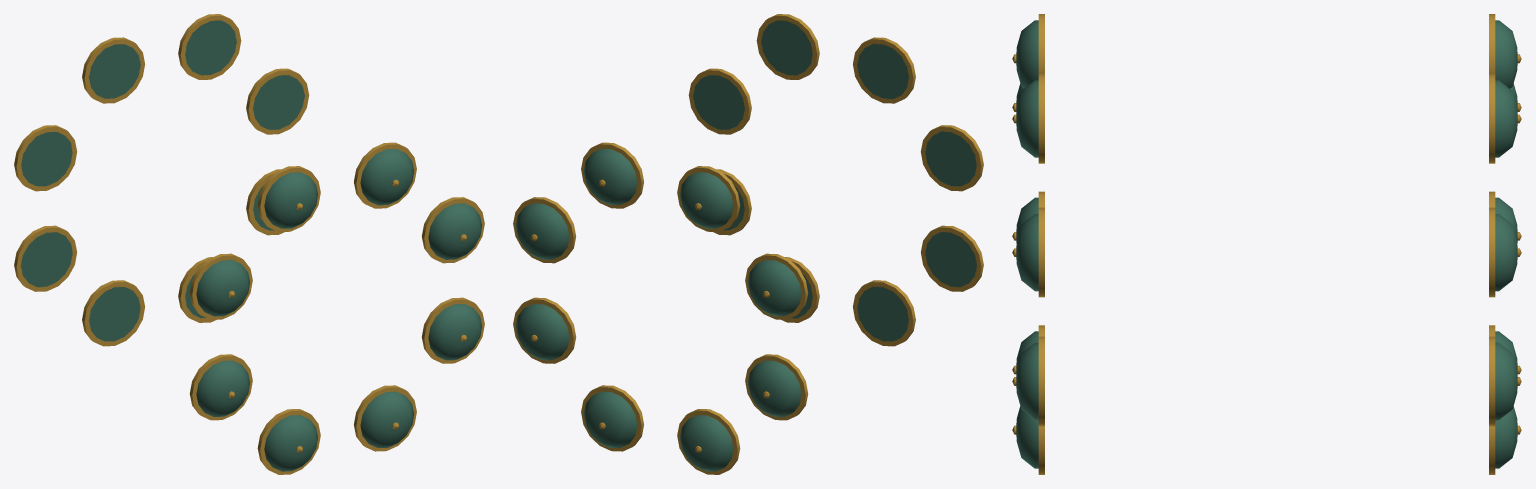
File: h12_dampers.obj
3 renders of one model, left to right at view 1: azimuth 30°, elevation 25°; view 2: azimuth 150°, elevation 25°; view 3: azimuth 270°, elevation 25°, orthographic. The views are drawn at different scales.
Parts seen in each view (by area): view 1: h12_dampers; view 2: h12_dampers; view 3: h12_dampers.
Boxes of the visible parts, x1,y1,x2,y2 form: h12_dampers: [14, 14, 484, 474]; h12_dampers: [513, 14, 983, 474]; h12_dampers: [1012, 14, 1521, 474].
Size of the model in its own units: 2.66 by 2.66 by 3.13.
